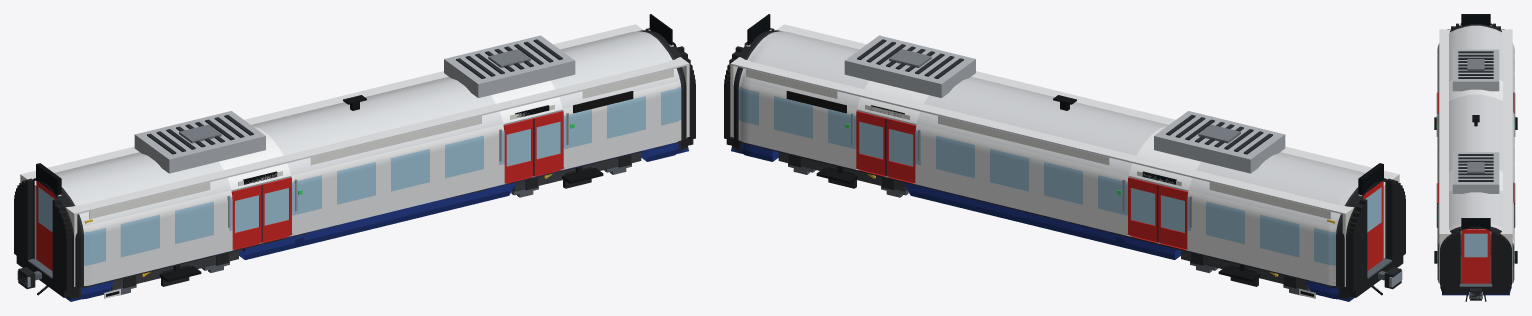
Rendered from tube2009_car.obj.
The picture shows the model from 3 angles, left to right: view 1: azimuth 30°, elevation 25°; view 2: azimuth 150°, elevation 25°; view 3: azimuth 270°, elevation 25°; orthographic projection. The views are drawn at different scales.
Parts seen in each view (by area): view 1: SHELL, SHELL_roof, SHELL_ceiling, SHELL_diaphragm, SHELL_ad, SHELL_end, EXTERNAL_DOOR_4_CG_DR1_TOGGLE_TL_-0.74_X, EXTERNAL_DOOR_10_CG_DR2_TOGGLE_TL_-0.74_X, EXTERNAL_DOOR_11_CG_DR2_TOGGLE_TL_0.74_X, EXTERNAL_DOOR_5_CG_DR1_TOGGLE_TL_0.74_X, BOGEY_FRONT, BOGEY_REAR (+3 smaller); view 2: SHELL, SHELL_roof, SHELL_ceiling, SHELL_diaphragm, SHELL_ad, SHELL_end, EXTERNAL_DOOR_7_CG_DL1_TOGGLE_TL_-0.74_X, EXTERNAL_DOOR_13_CG_DL2_TOGGLE_TL_-0.74_X, EXTERNAL_DOOR_14_CG_DL2_TOGGLE_TL_0.74_X, EXTERNAL_DOOR_8_CG_DL1_TOGGLE_TL_0.74_X, BOGEY_FRONT, BOGEY_REAR (+3 smaller); view 3: SHELL, SHELL_ceiling, SHELL_roof, SHELL_diaphragm, CONNECTING_DOOR_2_CG_CF_TOGGLE_TL_0.98_Z, SHELL_end, SHELL_handle, FRAME, BOGEY_FRONT, SHELL_floor, SHELL_gangway, BOGEY_REAR.
Boxes of the visible parts, x1,y1,x2,y2 form: SHELL: (32,30,690,301); SHELL_roof: (134,35,575,173); SHELL_ceiling: (23,25,687,214); SHELL_diaphragm: (14,28,695,297); SHELL_ad: (89,69,673,219); SHELL_end: (20,14,689,286); EXTERNAL_DOOR_4_CG_DR1_TOGGLE_TL_-0.74_X: (231,184,262,249); EXTERNAL_DOOR_10_CG_DR2_TOGGLE_TL_-0.74_X: (503,118,534,182); EXTERNAL_DOOR_11_CG_DR2_TOGGLE_TL_0.74_X: (533,111,563,175); EXTERNAL_DOOR_5_CG_DR1_TOGGLE_TL_0.74_X: (262,177,291,241); BOGEY_FRONT: (512,152,641,191); BOGEY_REAR: (111,250,238,289); SHELL: (729,30,1387,301); SHELL_roof: (844,35,1285,173); SHELL_ceiling: (732,25,1395,214); SHELL_diaphragm: (724,28,1405,297); SHELL_ad: (746,69,1330,219); SHELL_end: (730,14,1399,286); EXTERNAL_DOOR_7_CG_DL1_TOGGLE_TL_-0.74_X: (1157,184,1188,249); EXTERNAL_DOOR_13_CG_DL2_TOGGLE_TL_-0.74_X: (885,118,916,182); EXTERNAL_DOOR_14_CG_DL2_TOGGLE_TL_0.74_X: (856,111,886,175); EXTERNAL_DOOR_8_CG_DL1_TOGGLE_TL_0.74_X: (1128,177,1157,241); BOGEY_FRONT: (778,152,907,191); BOGEY_REAR: (1181,250,1308,289); SHELL: (1437,23,1514,295); SHELL_ceiling: (1439,30,1512,233); SHELL_roof: (1452,49,1499,193); SHELL_diaphragm: (1440,23,1511,293); CONNECTING_DOOR_2_CG_CF_TOGGLE_TL_0.98_Z: (1461,229,1490,283); SHELL_end: (1439,14,1512,283); SHELL_handle: (1436,92,1515,226); FRAME: (1465,288,1486,301); BOGEY_FRONT: (1434,240,1517,263); SHELL_floor: (1460,234,1491,282); SHELL_gangway: (1459,283,1492,286); BOGEY_REAR: (1434,117,1517,129).
Bounding box in the file's own units: 17.84 × 3.24 × 2.84.
1 material, 1 textured.
